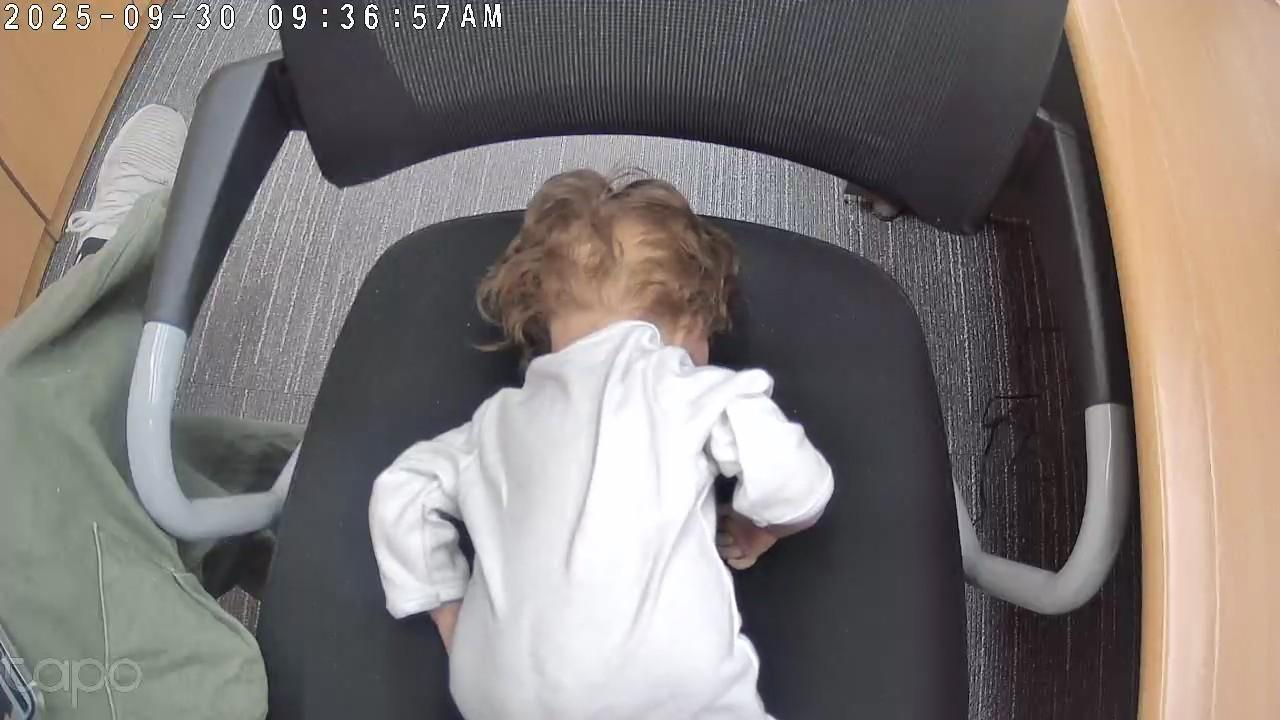hand: (719, 507, 780, 569)
